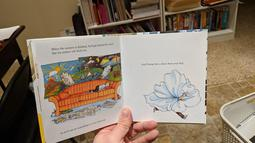text block: (47, 38, 121, 55), (55, 116, 114, 136), (139, 59, 188, 68)
